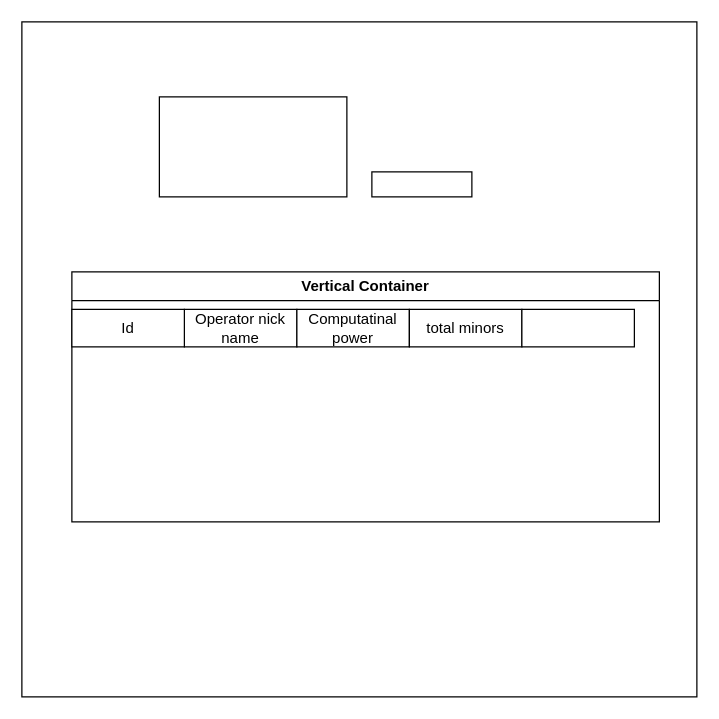
The diagram is 719 pixels wide and 719 high, and some of its shapes have lost their labels. Each missing label, with the centre of its shape:
"Add operator" goes at (421,184).
"ID: #1 Name:" goes at (252,146).
